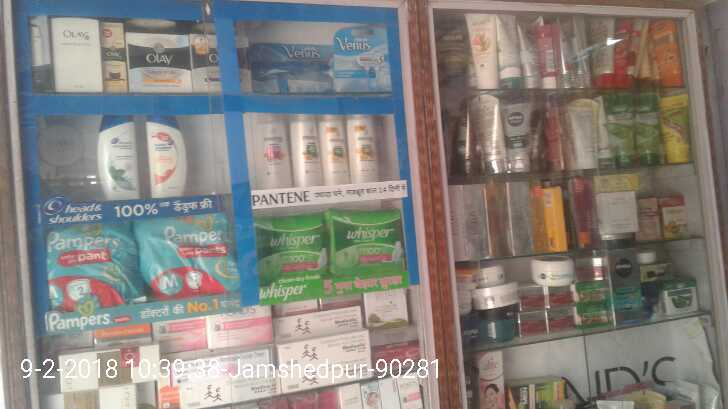venus: (332, 30, 393, 93), (254, 45, 334, 91)
